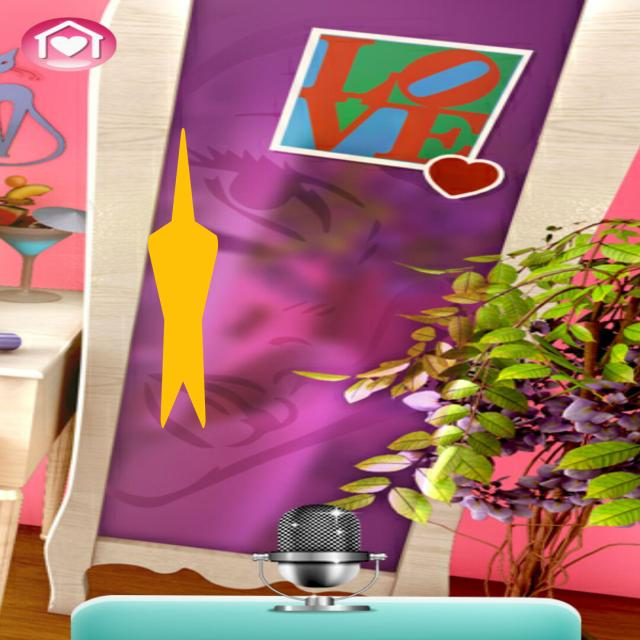forced continuity: (148, 128, 218, 428)
